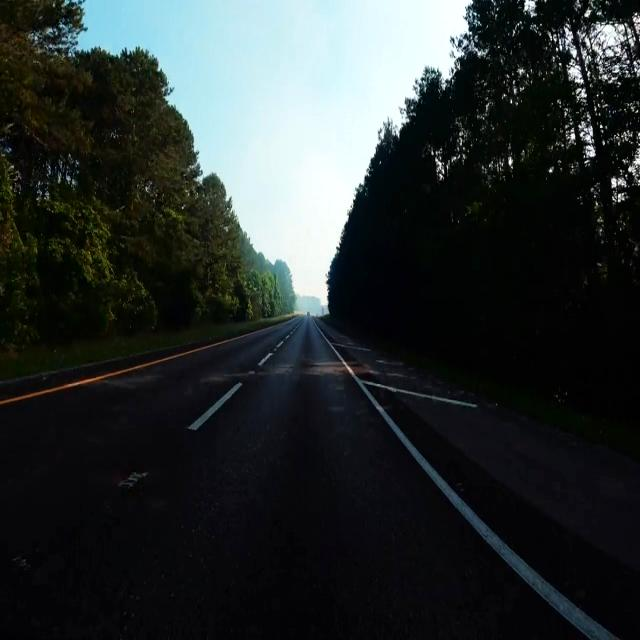lane: (315, 323, 616, 639), (188, 382, 241, 431), (259, 353, 272, 366)
road: (0, 318, 579, 637), (364, 387, 640, 636)
